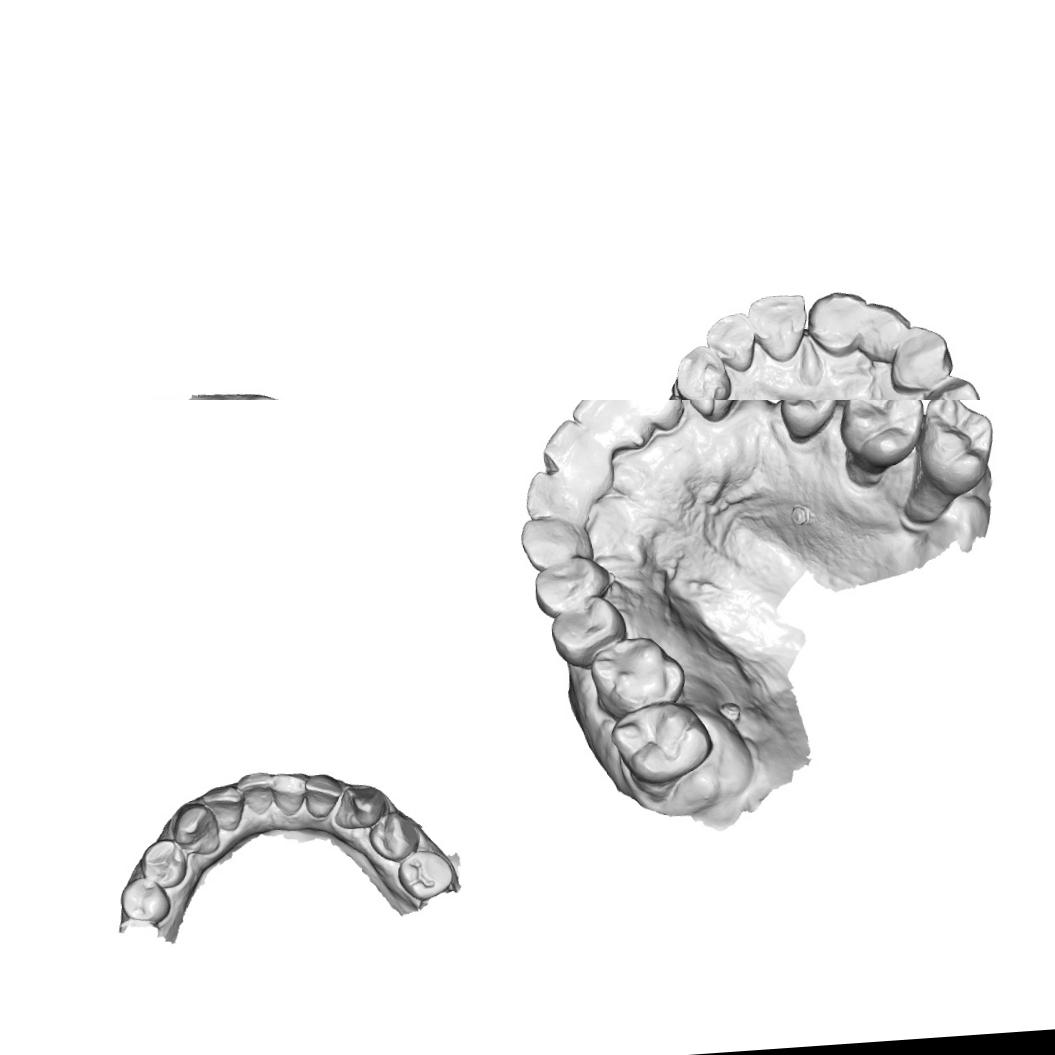canine: (886, 322, 956, 396), (516, 510, 596, 572), (671, 342, 732, 400), (170, 800, 220, 857), (330, 782, 387, 830), (681, 400, 742, 424)
incisor: (745, 290, 812, 366), (804, 284, 870, 360), (854, 298, 913, 365), (538, 414, 596, 480), (520, 465, 580, 527), (702, 311, 758, 374), (568, 400, 630, 440), (199, 783, 247, 833), (302, 770, 345, 820), (268, 770, 310, 818), (234, 769, 276, 816), (615, 400, 680, 426)
molar: (606, 696, 716, 788), (912, 400, 1000, 497), (588, 630, 682, 716), (832, 400, 928, 467)
premolar: (546, 594, 630, 670), (530, 554, 612, 616), (394, 847, 455, 902), (366, 808, 420, 863), (118, 873, 172, 926), (138, 835, 188, 890), (775, 400, 838, 438), (912, 374, 983, 400)
